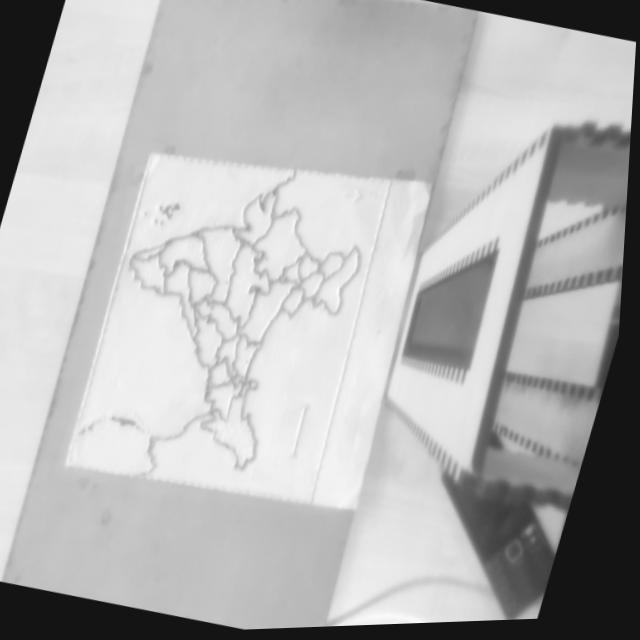map: (65, 120, 391, 524)
